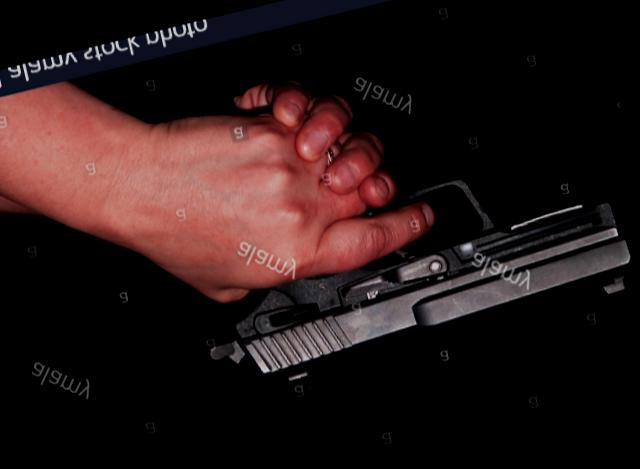pistol: (127, 2, 640, 416)
